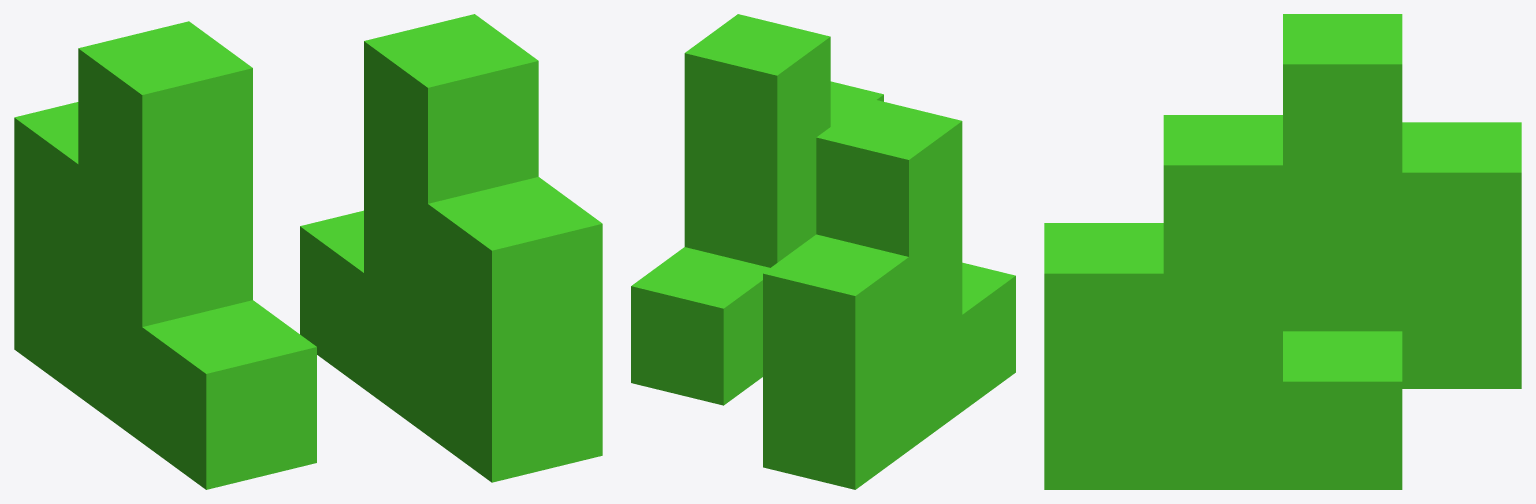
The model's file is tile-30.obj.
The picture shows the model from 3 angles, left to right: view 1: azimuth 30°, elevation 25°; view 2: azimuth 150°, elevation 25°; view 3: azimuth 270°, elevation 25°; orthographic projection. The views are drawn at different scales.
Bounding box in the file's own units: 0.3 × 0.3 × 0.4.
